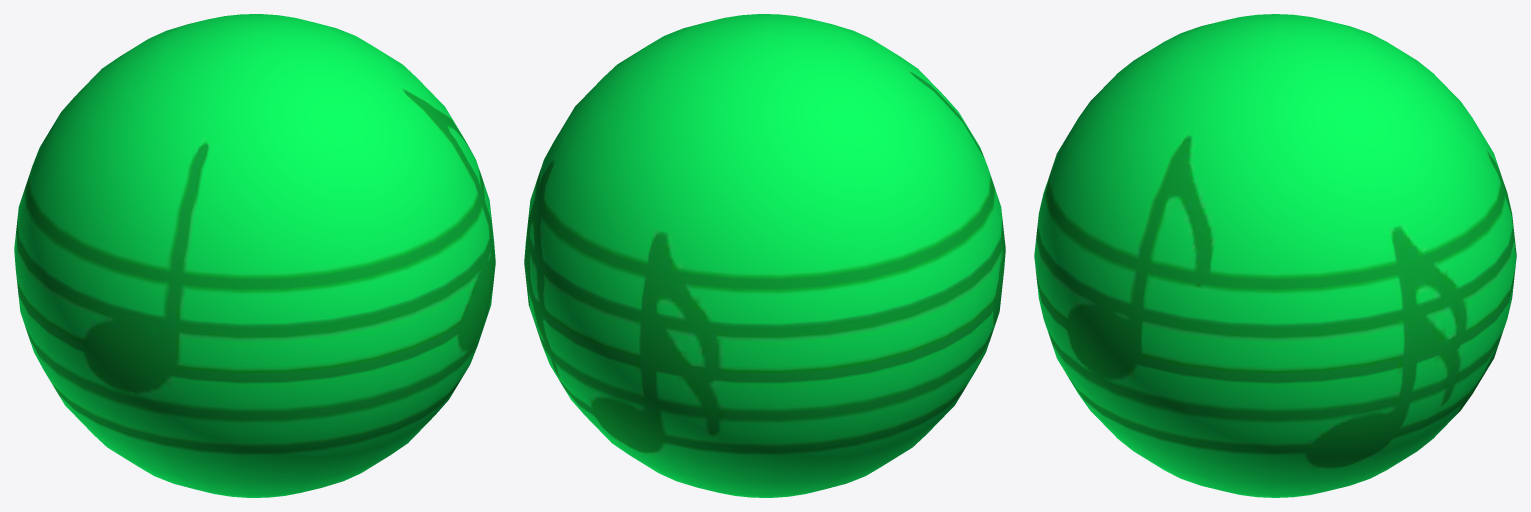
The model's file is Skin_Green_004.fbx.
3 renders of one model, left to right at view 1: azimuth 30°, elevation 25°; view 2: azimuth 150°, elevation 25°; view 3: azimuth 270°, elevation 25°, orthographic.
Visible parts, largest first — view 1: Ball_Skin_Note_G_004; view 2: Ball_Skin_Note_G_004; view 3: Ball_Skin_Note_G_004.
Boxes of the visible parts, <box> form: Ball_Skin_Note_G_004: <box>14,14,495,497</box>; Ball_Skin_Note_G_004: <box>524,14,1005,497</box>; Ball_Skin_Note_G_004: <box>1034,14,1516,497</box>.
Size of the model in its own units: 0.9904 by 1 by 0.9904.
1 material, 1 textured.
